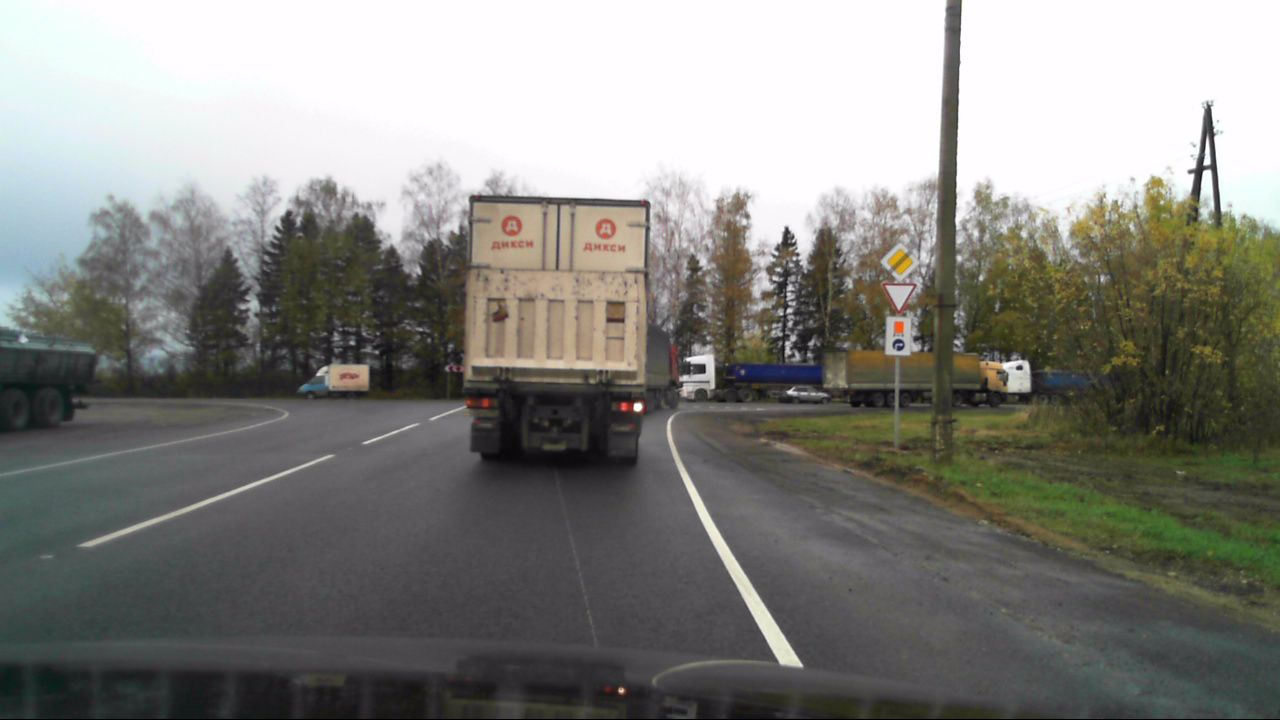main road: (880, 245, 918, 282)
